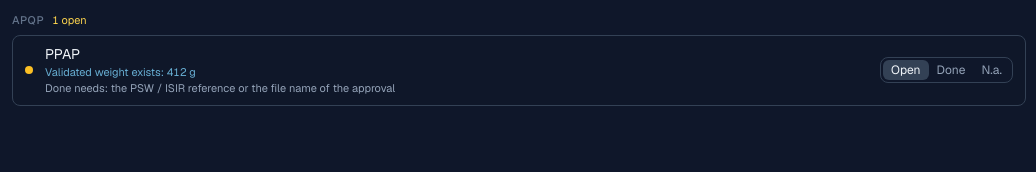
Test: ReleaseChecklist › A5-09: one word is no reference (the shared rule: no button the backend refuses)
Click the radio button with test id "release-check-customer_approval-done" at (951, 70), box [929,60,973,80]
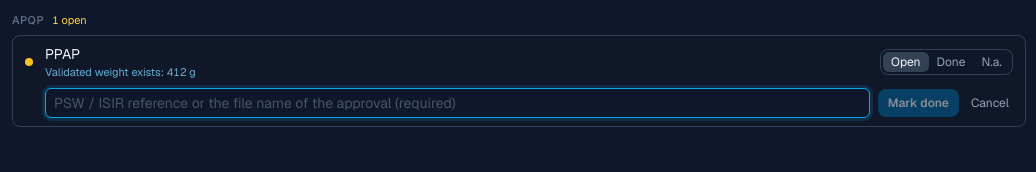
Replace the text in the field with test id "release-check-customer_approval-note" with "approved" at (457, 103), box [45,88,870,118]
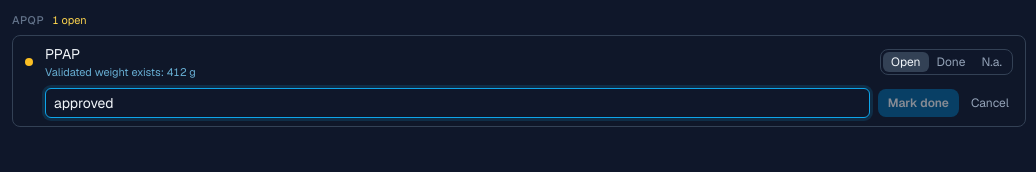
Expected: the button with test id "release-check-customer_approval-confirm" is disabled, [878,89,959,117]
Replace the text in the field with test id "release-check-customer_approval-note" with "PSW 886.197-D" at (457, 103), box [45,88,870,118]
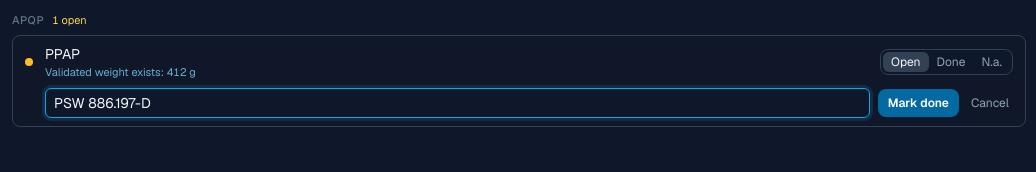
Expected: the button with test id "release-check-customer_approval-confirm" is enabled, [878,89,959,117]
